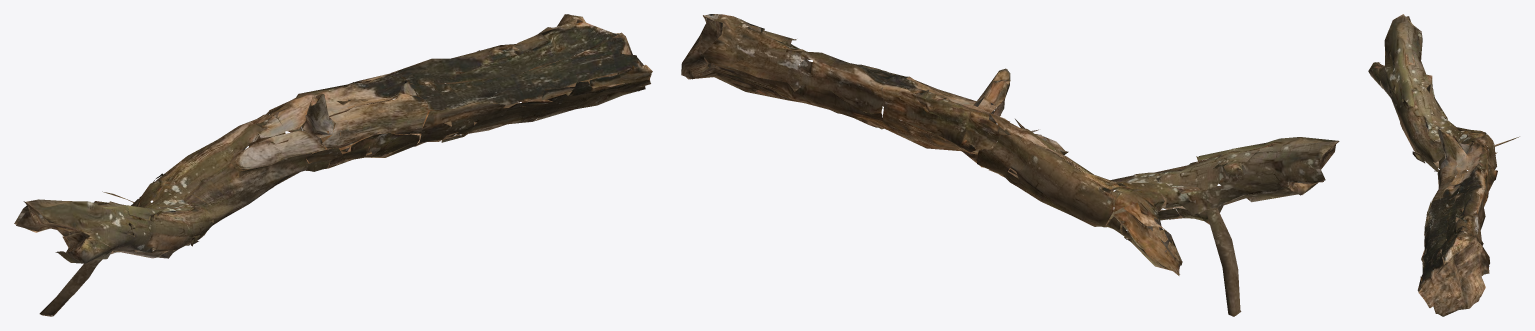
The model's file is dead_tree_trunk_02.glb.
3 renders of one model, left to right at view 1: azimuth 30°, elevation 25°; view 2: azimuth 150°, elevation 25°; view 3: azimuth 270°, elevation 25°, orthographic. The views are drawn at different scales.
Parts seen in each view (by area): view 1: dead_tree_trunk_02; view 2: dead_tree_trunk_02; view 3: dead_tree_trunk_02.
Boxes of the visible parts, left/top/right/bottom form: dead_tree_trunk_02: left=14, top=14, right=652, bottom=316; dead_tree_trunk_02: left=681, top=14, right=1339, bottom=316; dead_tree_trunk_02: left=1368, top=14, right=1519, bottom=316.
Bounding box in the file's own units: 4.05 × 1.05 × 1.03.
Materials: 1 (1 with a texture image).
